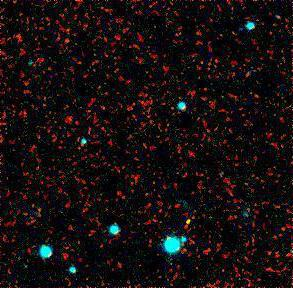star: (174, 200, 204, 230)
